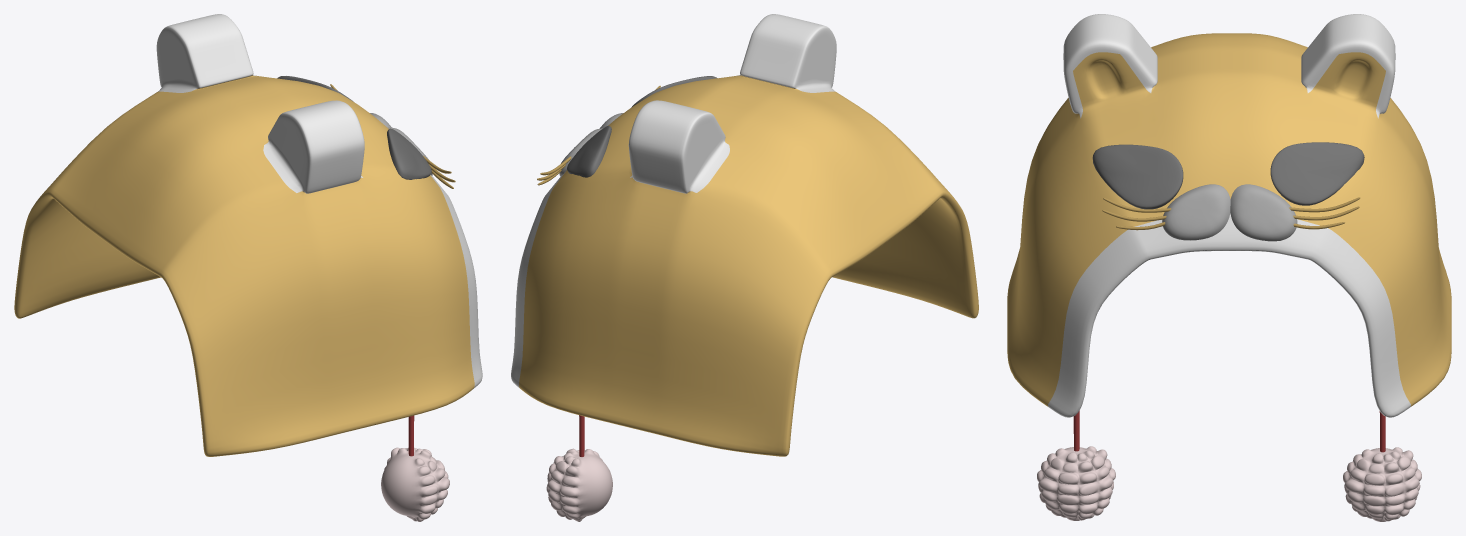
Rendered from tiger.fbx.
3 renders of one model, left to right at view 1: azimuth 30°, elevation 25°; view 2: azimuth 150°, elevation 25°; view 3: azimuth 270°, elevation 25°, orthographic. The views are drawn at different scales.
Parts seen in each view (by area): view 1: pPlane1, pSphere3, pCylinder18; view 2: pPlane1, pSphere3, pCylinder18; view 3: pPlane1, pSphere3, pCylinder18, pCylinder19, pCylinder15, pCylinder16.
Boxes of the visible parts, x1,y1,x2,y2 form: pPlane1: (14, 14, 482, 456); pSphere3: (381, 447, 449, 521); pCylinder18: (277, 76, 431, 179); pPlane1: (511, 14, 978, 456); pSphere3: (546, 448, 612, 521); pCylinder18: (567, 76, 717, 177); pPlane1: (1007, 14, 1451, 417); pSphere3: (1037, 446, 1421, 521); pCylinder18: (1092, 142, 1364, 209); pCylinder19: (1162, 184, 1297, 241); pCylinder15: (1103, 197, 1360, 212); pCylinder16: (1102, 206, 1359, 221).
Bounding box in the file's own units: 1.03 × 1.36 × 1.21.
